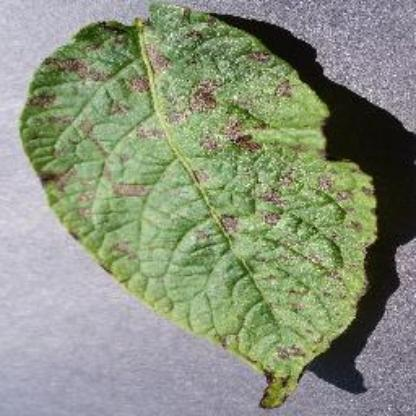Early-Blight: (21, 3, 416, 412)
